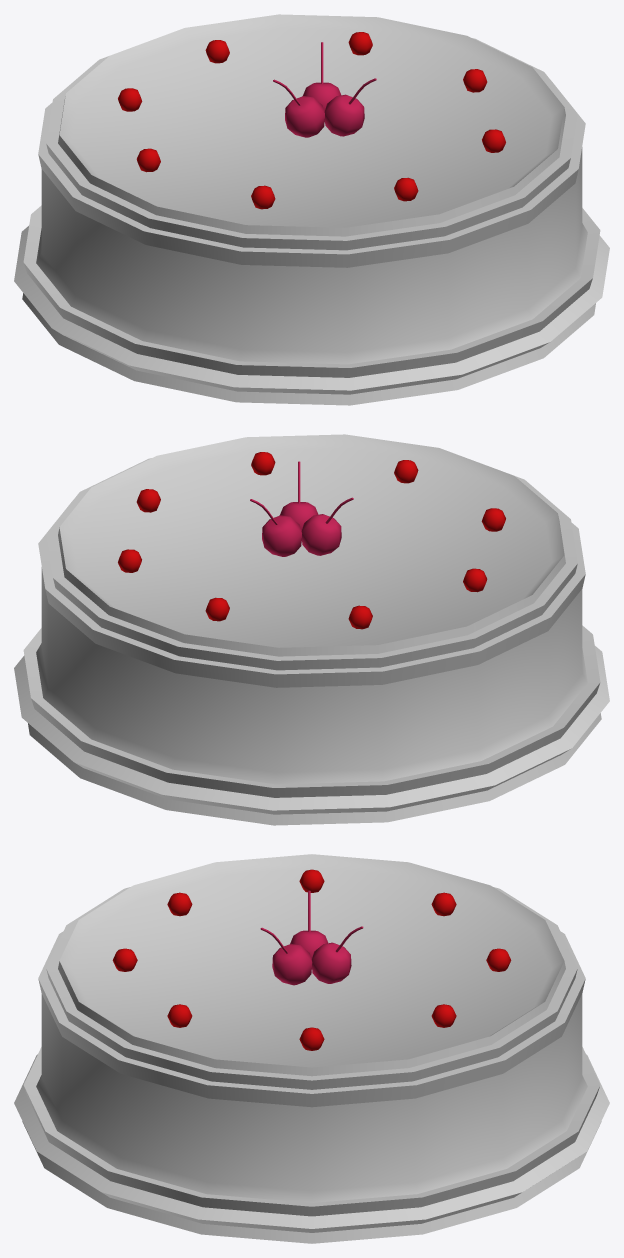
The model's file is Cake_obj1.obj.
3 renders of one model, top to bottom at view 1: azimuth 30°, elevation 25°; view 2: azimuth 150°, elevation 25°; view 3: azimuth 270°, elevation 25°, orthographic.
Visible parts, largest first — view 1: Circle.001_Circle.005; view 2: Circle.001_Circle.005; view 3: Circle.001_Circle.005.
Part boxes in pixels (x1,y1,x2,y2): Circle.001_Circle.005: (14, 14, 609, 405); Circle.001_Circle.005: (14, 434, 609, 825); Circle.001_Circle.005: (14, 854, 609, 1243).
Bounding box in the file's own units: 2.37 × 0.9316 × 2.37.
